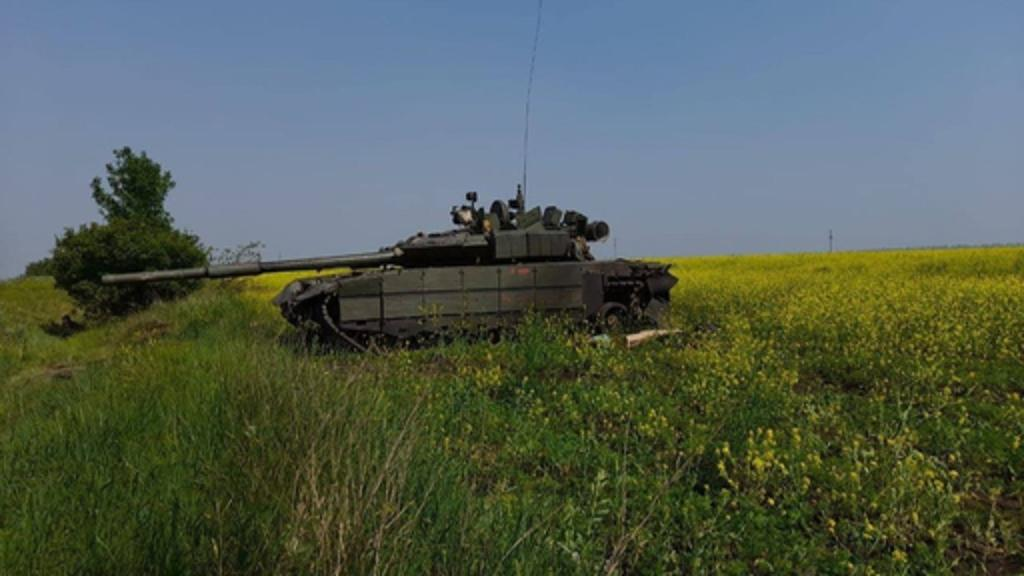TANK: (100, 198, 676, 344)
